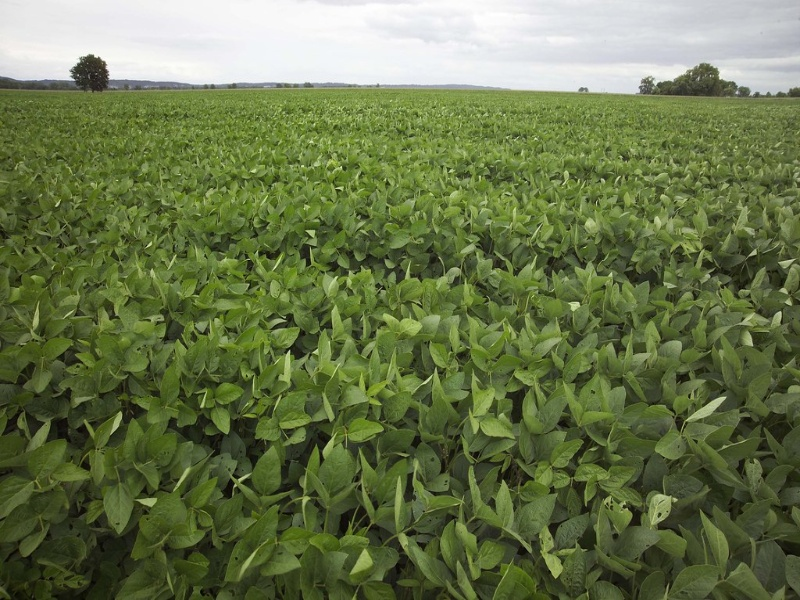soyabean: (2, 159, 798, 592)
